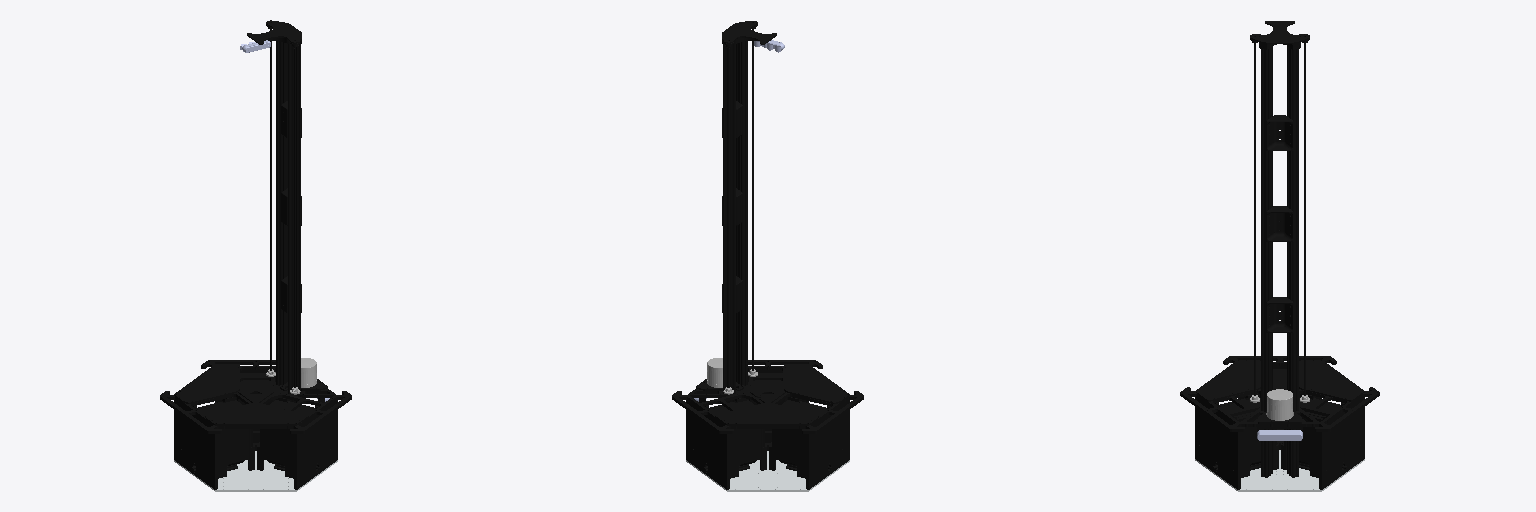
robot.urdf — stickbug_base:
<?xml version="1.0" encoding="utf-8"?>
<!-- This URDF was automatically created by SolidWorks to URDF Exporter! Originally created by [author] ([email redacted]) 
     Commit Version: 1.6.0-4-g7f85cfe  Build Version: 1.6.7995.38578
     For more information, please see http://wiki.ros.org/sw_urdf_exporter -->
<robot
  name="stickbug_base">
  <link
    name="base_footprint">
    <inertial>
      <origin
        xyz="2.14152041306814E-05 3.23189598462186E-05 0.066675"
        rpy="0 0 0" />
      <mass
        value="4.61207520224653" />
      <inertia
        ixx="0.0999230513061692"
        ixy="2.56363639829506E-06"
        ixz="-1.98809620225214E-19"
        iyy="0.0999410253939969"
        iyz="6.92922956199162E-20"
        izz="0.199833081633109" />
    </inertial>
    <visual>
      <origin
        xyz="0 0 0"
        rpy="0 0 0" />
      <geometry>
        <mesh
          filename="package://stickbug_base/meshes/base_footprint.STL" />
      </geometry>
      <material
        name="">
        <color
          rgba="0.898039215686275 0.917647058823529 0.929411764705882 1" />
      </material>
    </visual>
    <collision>
      <origin
        xyz="0 0 0"
        rpy="0 0 0" />
      <geometry>
        <mesh
          filename="package://stickbug_base/meshes/base_footprint.STL" />
      </geometry>
    </collision>
  </link>
  <link
    name="base_link">
    <inertial>
      <origin
        xyz="0.0102079284624479 -3.86323815662623E-05 0.201127610999515"
        rpy="0 0 0" />
      <mass
        value="35.0775372153667" />
      <inertia
        ixx="0.845153226678831"
        ixy="1.15795308289346E-06"
        ixz="-4.72502983562422E-06"
        iyy="0.857016820744041"
        iyz="-1.46341439248048E-08"
        izz="0.4330698567729" />
    </inertial>
    <visual>
      <origin
        xyz="0 0 0"
        rpy="0 0 0" />
      <geometry>
        <mesh
          filename="package://stickbug_base/meshes/base_link.STL" />
      </geometry>
      <material
        name="">
        <color
          rgba="0.109803921568627 0.109803921568627 0.109803921568627 1" />
      </material>
    </visual>
    <collision>
      <origin
        xyz="0 0 0"
        rpy="0 0 0" />
      <geometry>
        <mesh
          filename="package://stickbug_base/meshes/base_link.STL" />
      </geometry>
    </collision>
  </link>
  <joint
    name="foot2base"
    type="fixed">
    <origin
      xyz="2.1415E-05 3.2319E-05 0.0635"
      rpy="0 0 0" />
    <parent
      link="base_footprint" />
    <child
      link="base_link" />
    <axis
      xyz="0 0 0" />
  </joint>
  <link
    name="fr_wheel">
    <inertial>
      <origin
        xyz="4.82958464445016E-05 -7.32604728410462E-05 -0.0158742308710669"
        rpy="0 0 0" />
      <mass
        value="0.626653098801925" />
      <inertia
        ixx="0.00071178175395083"
        ixy="2.7414822166393E-09"
        ixz="-5.77419111548287E-08"
        iyy="0.000711774501854219"
        iyz="7.87863202048541E-08"
        izz="0.00139769373829352" />
    </inertial>
    <visual>
      <origin
        xyz="0 0 0"
        rpy="0 0 0" />
      <geometry>
        <mesh
          filename="package://stickbug_base/meshes/fr_wheel.STL" />
      </geometry>
      <material
        name="">
        <color
          rgba="0.792156862745098 0.819607843137255 0.933333333333333 1" />
      </material>
    </visual>
    <collision>
      <origin
        xyz="0 0 0"
        rpy="0 0 0" />
      <geometry>
        <mesh
          filename="package://stickbug_base/meshes/fr_wheel.STL" />
      </geometry>
    </collision>
  </link>
  <joint
    name="frw"
    type="continuous">
    <origin
      xyz="0.16059 -0.27821 0.0381"
      rpy="1.5708 0 0.5236" />
    <parent
      link="base_link" />
    <child
      link="fr_wheel" />
    <axis
      xyz="0 0 1" />
    <limit
      effort="200"
      velocity="0" />
    <dynamics
      damping="0.2"
      friction="0.2" />
  </joint>
  <link
    name="fl_wheel">
    <inertial>
      <origin
        xyz="-7.20537664984366E-05 -6.99681935735462E-05 -0.0152708692239969"
        rpy="0 0 0" />
      <mass
        value="0.559485027704479" />
      <inertia
        ixx="0.000579784098176026"
        ixy="-1.88505640148465E-09"
        ixz="6.17916644106062E-08"
        iyy="0.000579785178714697"
        iyz="7.56495525234232E-08"
        izz="0.0011338073867259" />
    </inertial>
    <visual>
      <origin
        xyz="0 0 0"
        rpy="0 0 0" />
      <geometry>
        <mesh
          filename="package://stickbug_base/meshes/fl_wheel.STL" />
      </geometry>
      <material
        name="">
        <color
          rgba="0.792156862745098 0.819607843137255 0.933333333333333 1" />
      </material>
    </visual>
    <collision>
      <origin
        xyz="0 0 0"
        rpy="0 0 0" />
      <geometry>
        <mesh
          filename="package://stickbug_base/meshes/fl_wheel.STL" />
      </geometry>
    </collision>
  </link>
  <joint
    name="flw"
    type="continuous">
    <origin
      xyz="0.16059 0.27815 0.0381"
      rpy="1.5708 0 2.618" />
    <parent
      link="base_link" />
    <child
      link="fl_wheel" />
    <axis
      xyz="0 0 1" />
    <limit
      effort="200"
      velocity="0" />
    <dynamics
      damping="0.2"
      friction="0.2" />
  </joint>
  <link
    name="b_wheel">
    <inertial>
      <origin
        xyz="8.36992519676054E-05 -2.63433393755813E-05 -0.0158742295235679"
        rpy="0 0 0" />
      <mass
        value="0.626653031138758" />
      <inertia
        ixx="0.00071177618338088"
        ixy="4.1083335760656E-09"
        ixz="-9.45107850065779E-08"
        iyy="0.000711780076798303"
        iyz="2.46679649776571E-08"
        izz="0.00139769373928287" />
    </inertial>
    <visual>
      <origin
        xyz="0 0 0"
        rpy="0 0 0" />
      <geometry>
        <mesh
          filename="package://stickbug_base/meshes/b_wheel.STL" />
      </geometry>
      <material
        name="">
        <color
          rgba="0.792156862745098 0.819607843137255 0.933333333333333 1" />
      </material>
    </visual>
    <collision>
      <origin
        xyz="0 0 0"
        rpy="0 0 0" />
      <geometry>
        <mesh
          filename="package://stickbug_base/meshes/b_wheel.STL" />
      </geometry>
    </collision>
  </link>
  <joint
    name="bw"
    type="continuous">
    <origin
      xyz="-0.32124 -3.2319E-05 0.0381"
      rpy="1.5708 0 -1.5708" />
    <parent
      link="base_link" />
    <child
      link="b_wheel" />
    <axis
      xyz="0 0 1" />
    <limit
      effort="200"
      velocity="0" />
    <dynamics
      damping="0.2"
      friction="0.2" />
  </joint>
  <link
    name="lidar">
    <inertial>
      <origin
        xyz="-9.78202271295636E-05 -2.43039787231798E-06 0.0058316040170599"
        rpy="0 0 0" />
      <mass
        value="0.6957286087788" />
      <inertia
        ixx="0.000878507722123655"
        ixy="8.3578146326656E-11"
        ixz="8.3324695920418E-08"
        iyy="0.000878975923859681"
        iyz="-6.86791280845821E-08"
        izz="0.000889858414455019" />
    </inertial>
    <visual>
      <origin
        xyz="0 0 0"
        rpy="0 0 0" />
      <geometry>
        <mesh
          filename="package://stickbug_base/meshes/lidar.STL" />
      </geometry>
      <material
        name="">
        <color
          rgba="0.752941176470588 0.752941176470588 0.752941176470588 1" />
      </material>
    </visual>
    <collision>
      <origin
        xyz="0 0 0"
        rpy="0 0 0" />
      <geometry>
        <mesh
          filename="package://stickbug_base/meshes/lidar.STL" />
      </geometry>
    </collision>
  </link>
  <joint
    name="base2lidar"
    type="fixed">
    <origin
      xyz="0.21804 -3.2319E-05 0.32913"
      rpy="0 0 0" />
    <parent
      link="base_link" />
    <child
      link="lidar" />
    <axis
      xyz="0 0 0" />
  </joint>
  <link
    name="zed">
    <inertial>
      <origin
        xyz="-0.0194322614660269 9.12426059709588E-07 -0.000862607518043401"
        rpy="0 0 0" />
      <mass
        value="0.167694642835054" />
      <inertia
        ixx="0.000382844282483195"
        ixy="3.2315292808456E-09"
        ixz="-3.326725690359E-07"
        iyy="3.24806894733853E-05"
        iyz="1.49948250317334E-09"
        izz="0.000390509177129988" />
    </inertial>
    <visual>
      <origin
        xyz="0 0 0"
        rpy="0 0 0" />
      <geometry>
        <mesh
          filename="package://stickbug_base/meshes/zed.STL" />
      </geometry>
      <material
        name="">
        <color
          rgba="0.792156862745098 0.819607843137255 0.933333333333333 1" />
      </material>
    </visual>
    <collision>
      <origin
        xyz="0 0 0"
        rpy="0 0 0" />
      <geometry>
        <mesh
          filename="package://stickbug_base/meshes/zed.STL" />
      </geometry>
    </collision>
  </link>
  <joint
    name="base2zed"
    type="fixed">
    <origin
      xyz="0.30283 -3.2319E-05 0.23593"
      rpy="0 0.034907 0" />
    <parent
      link="base_link" />
    <child
      link="zed" />
    <axis
      xyz="0 0 0" />
  </joint>
  <link
    name="d355">
    <inertial>
      <origin
        xyz="-0.00788625798889209 -0.000593104662498781 9.05379812177198E-05"
        rpy="0 0 0" />
      <mass
        value="0.061436017794559" />
      <inertia
        ixx="5.89869602274054E-05"
        ixy="-1.96801347845483E-08"
        ixz="-2.7110431537758E-08"
        iyy="4.49845717604606E-06"
        iyz="1.96478787836703E-08"
        izz="5.57860158775296E-05" />
    </inertial>
    <visual>
      <origin
        xyz="0 0 0"
        rpy="0 0 0" />
      <geometry>
        <mesh
          filename="package://stickbug_base/meshes/d355.STL" />
      </geometry>
      <material
        name="">
        <color
          rgba="0.792156862745098 0.819607843137255 0.933333333333333 1" />
      </material>
    </visual>
    <collision>
      <origin
        xyz="0 0 0"
        rpy="0 0 0" />
      <geometry>
        <mesh
          filename="package://stickbug_base/meshes/d355.STL" />
      </geometry>
    </collision>
  </link>
  <joint
    name="base2d355"
    type="fixed">
    <origin
      xyz="-0.0035667 -3.2319E-05 1.8093"
      rpy="0 3.1416 -1.5708" /> <!-- 3.1416 1.5708 0-->
    <parent
      link="base_link" />
    <child
      link="d355" />
    <axis
      xyz="0 0 0" />
  </joint>
  <link
    name="l_lift">
    <inertial>
      <origin
        xyz="0.000290120193721988 -3.98269065002427E-05 -0.0130757720478314"
        rpy="0 0 0" />
      <mass
        value="0.0129866178194594" />
      <inertia
        ixx="1.43164773219033E-06"
        ixy="2.3850396902316E-09"
        ixz="-1.65543141791114E-08"
        iyy="1.44873230959085E-06"
        iyz="2.27143690223563E-09"
        izz="2.11753052630025E-06" />
    </inertial>
    <visual>
      <origin
        xyz="0 0 0"
        rpy="0 0 0" />
      <geometry>
        <mesh
          filename="package://stickbug_base/meshes/l_lift.STL" />
      </geometry>
      <material
        name="">
        <color
          rgba="0.752941176470588 0.752941176470588 0.752941176470588 1" />
      </material>
    </visual>
    <collision>
      <origin
        xyz="0 0 0"
        rpy="0 0 0" />
      <geometry>
        <mesh
          filename="package://stickbug_base/meshes/l_lift.STL" />
      </geometry>
    </collision>
  </link>
  <joint
    name="base2l_lift"
    type="fixed">
    <origin
      xyz="0.12397 0.094788 0.32988"
      rpy="0 0 0" />
    <parent
      link="base_link" />
    <child
      link="l_lift" />
    <axis
      xyz="0 0 0" />
  </joint>
  <link
    name="r_lift">
    <inertial>
      <origin
        xyz="0.00029284109815797 -2.274392613133E-08 -0.013075772047841"
        rpy="0 0 0" />
      <mass
        value="0.0129866178194594" />
      <inertia
        ixx="1.43132102452946E-06"
        ixy="-3.75614859620096E-12"
        ixz="-1.67094208007256E-08"
        iyy="1.44905901725174E-06"
        iyz="2.13866775789404E-13"
        izz="2.11753052630024E-06" />
    </inertial>
    <visual>
      <origin
        xyz="0 0 0"
        rpy="0 0 0" />
      <geometry>
        <mesh
          filename="package://stickbug_base/meshes/r_lift.STL" />
      </geometry>
      <material
        name="">
        <color
          rgba="0.752941176470588 0.752941176470588 0.752941176470588 1" />
      </material>
    </visual>
    <collision>
      <origin
        xyz="0 0 0"
        rpy="0 0 0" />
      <geometry>
        <mesh
          filename="package://stickbug_base/meshes/r_lift.STL" />
      </geometry>
    </collision>
  </link>
  <joint
    name="base2r_lift"
    type="fixed">
    <origin
      xyz="0.12379 -0.095217 0.32988"
      rpy="0 0 0" />
    <parent
      link="base_link" />
    <child
      link="r_lift" />
    <axis
      xyz="0 0 0" />
  </joint>
</robot>

--- What the picture shows (computed from the rendered views, not written in the file) ---
The picture shows the robot from 3 angles, left to right: view 1: azimuth 30°, elevation 25°; view 2: azimuth 150°, elevation 25°; view 3: azimuth 270°, elevation 25°; orthographic projection.
Robot: stickbug_base — 10 links, 9 joints (3 continuous, 6 fixed); root link base_footprint; default pose: all joints at 0.
Visible links, largest first — view 1: base_link, base_footprint; view 2: base_link, base_footprint; view 3: base_link, base_footprint, lidar.
Boxes of the visible links, bbox=[...] form: base_link: bbox=[160, 20, 351, 489]; base_footprint: bbox=[174, 451, 337, 491]; base_link: bbox=[672, 21, 863, 489]; base_footprint: bbox=[686, 451, 849, 491]; base_link: bbox=[1180, 21, 1379, 489]; base_footprint: bbox=[1195, 450, 1364, 491]; lidar: bbox=[1266, 389, 1293, 420].
Size in the robot's own frame: 0.6604 by 0.7584 by 1.84 metres.
7 mesh visuals loaded from 10 distinct referenced files (7 binary STL); not drawn: 3 (reference not matched to a file when rendering).